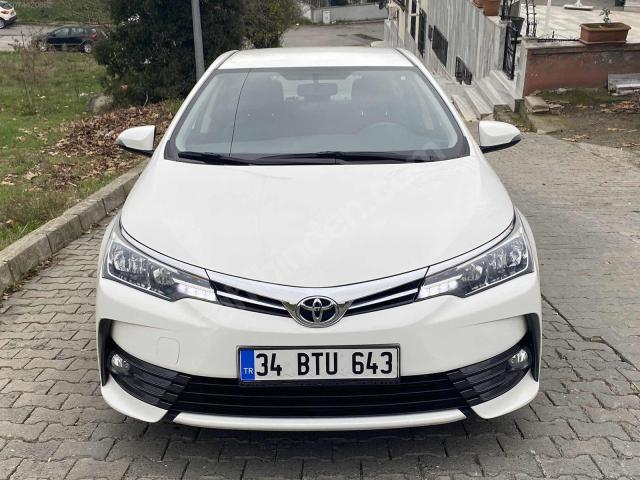plaka: (239, 347, 399, 382)
